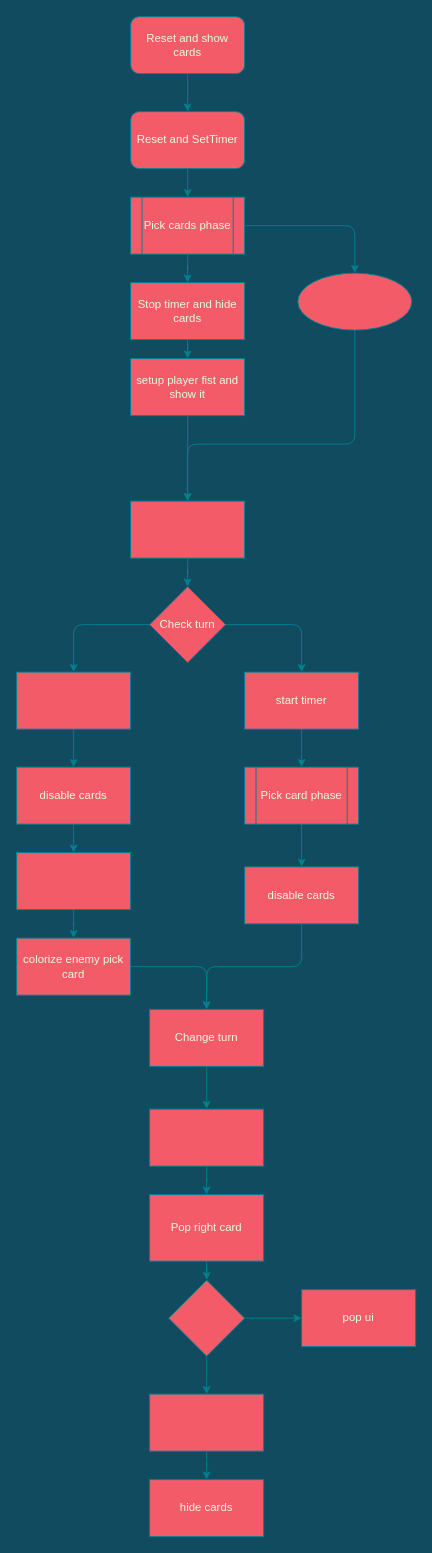
This 432x1553 diagram has some shape labels left out. The box of each missing label's shape, as (x1, y1, x2, y2) in pixels:
Ai pick random value: (297, 272, 412, 330)
Blink pebble: (149, 1393, 264, 1451)
END: (168, 1279, 245, 1356)
random delay and random card pick: (16, 852, 131, 910)
reset and show value cards: (130, 500, 245, 558)
reset opasity show hand: (149, 1108, 264, 1166)
start enemy timer: (16, 671, 131, 729)
